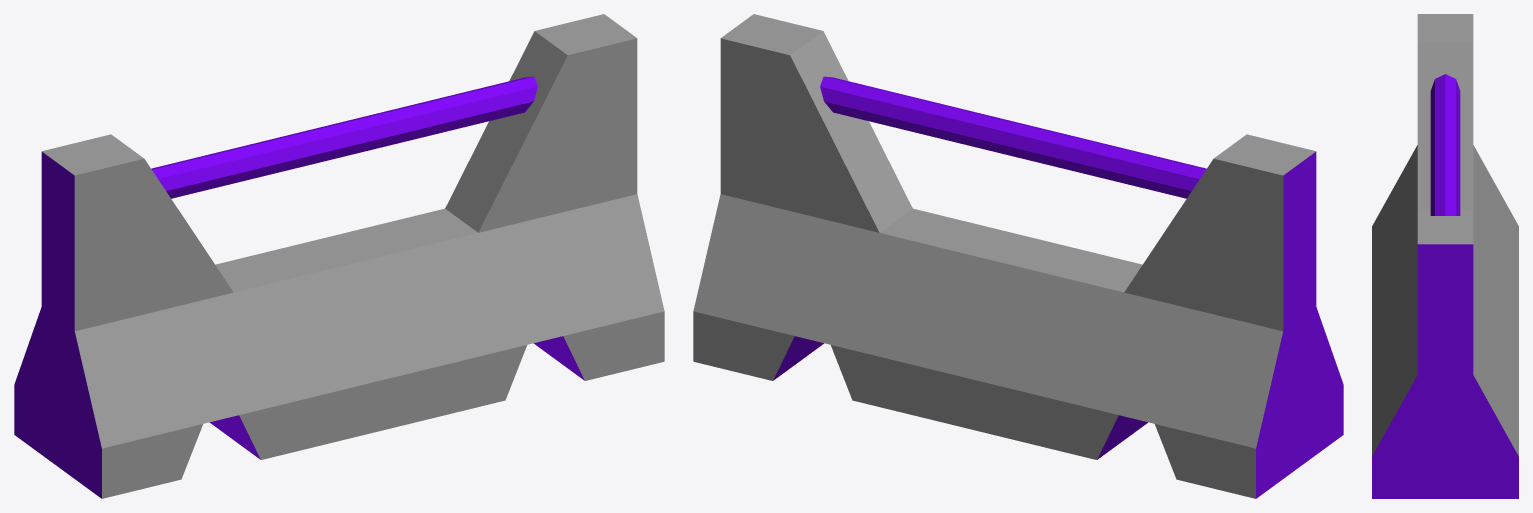
The model's file is Barricade_Concrete_03.fbx.
3 renders of one model, left to right at view 1: azimuth 30°, elevation 25°; view 2: azimuth 150°, elevation 25°; view 3: azimuth 270°, elevation 25°, orthographic. The views are drawn at different scales.
Parts seen in each view (by area): view 1: Obstacle_Barricade_Concrete_03; view 2: Obstacle_Barricade_Concrete_03; view 3: Obstacle_Barricade_Concrete_03.
Boxes of the visible parts, x1,y1,x2,y2 form: Obstacle_Barricade_Concrete_03: (14,14,664,498); Obstacle_Barricade_Concrete_03: (693,14,1343,498); Obstacle_Barricade_Concrete_03: (1372,14,1518,498).
Size of the model in its own units: 128 by 66.05 by 34.54.
Materials: 1 (1 with a texture image).
